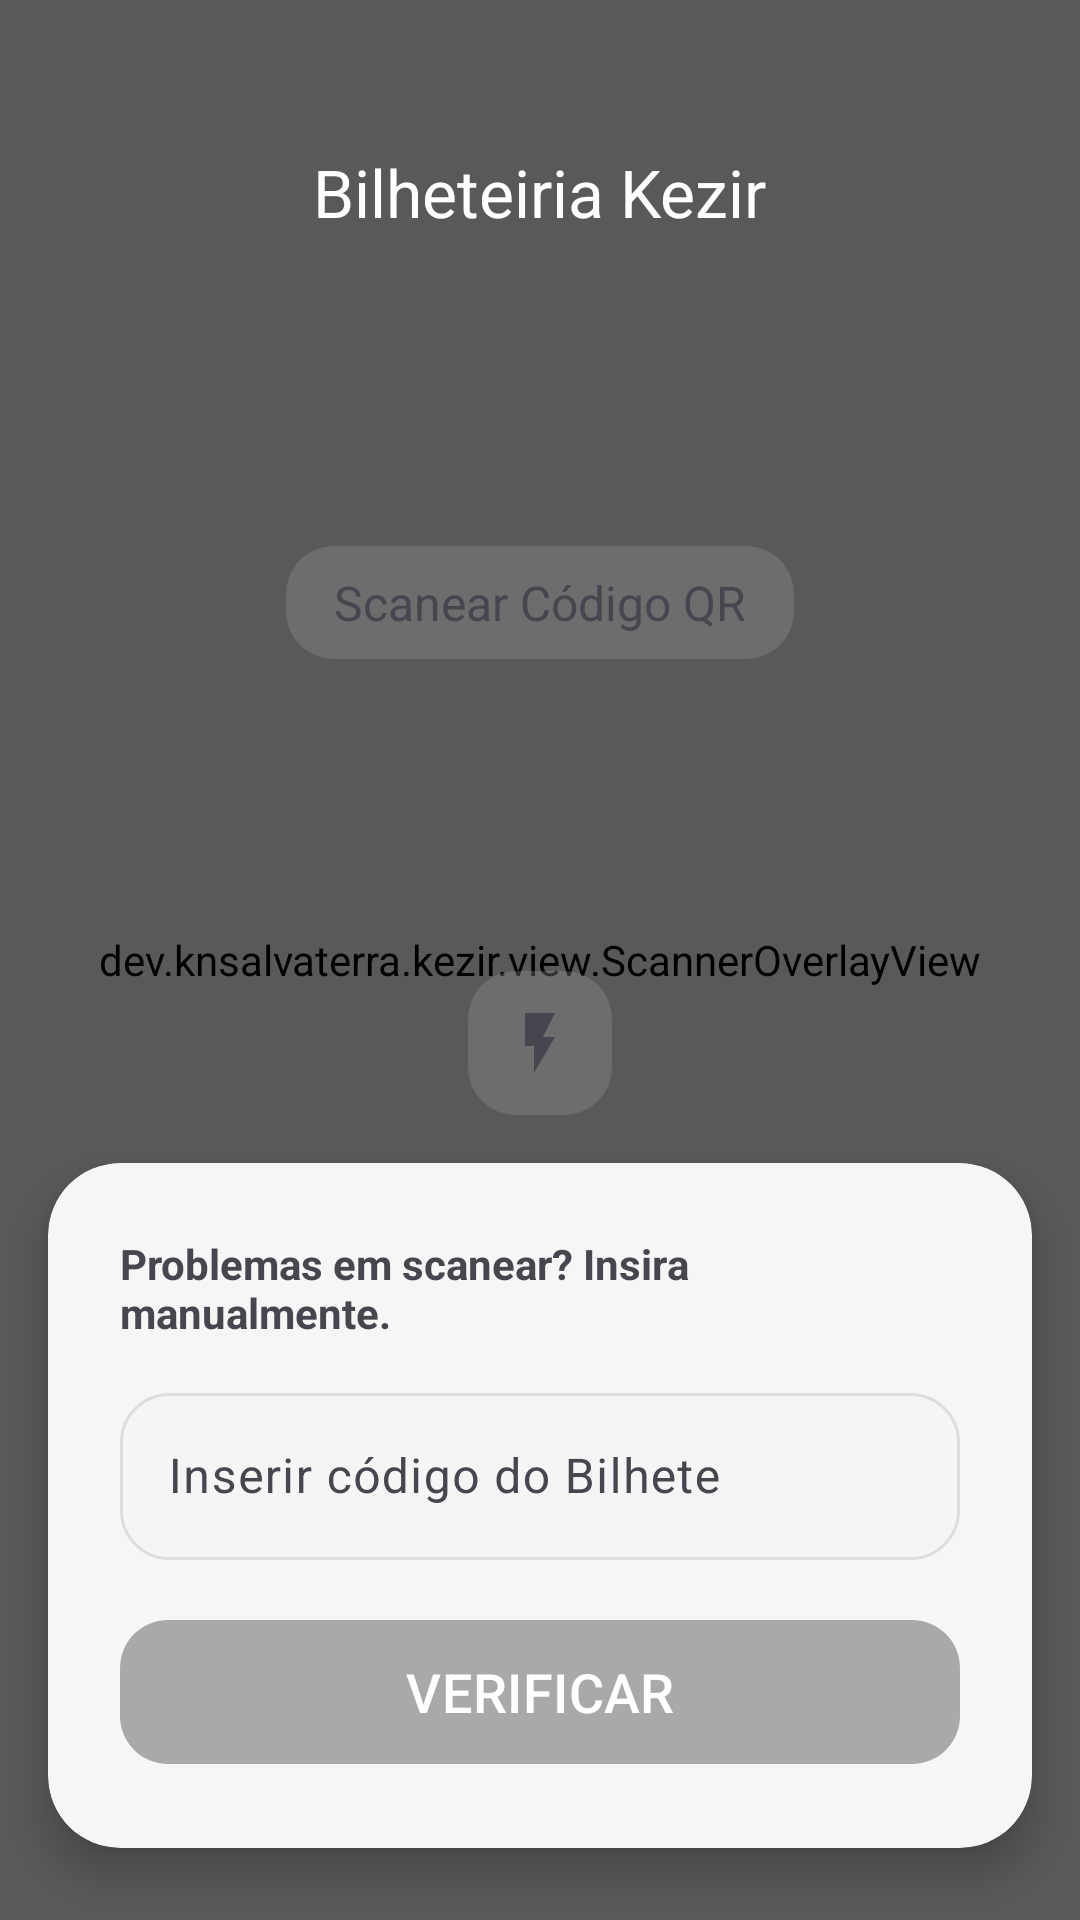

Named icons in this screenshot (1080*1920) and their centers, (x,y):
flash on: (540,1043)
